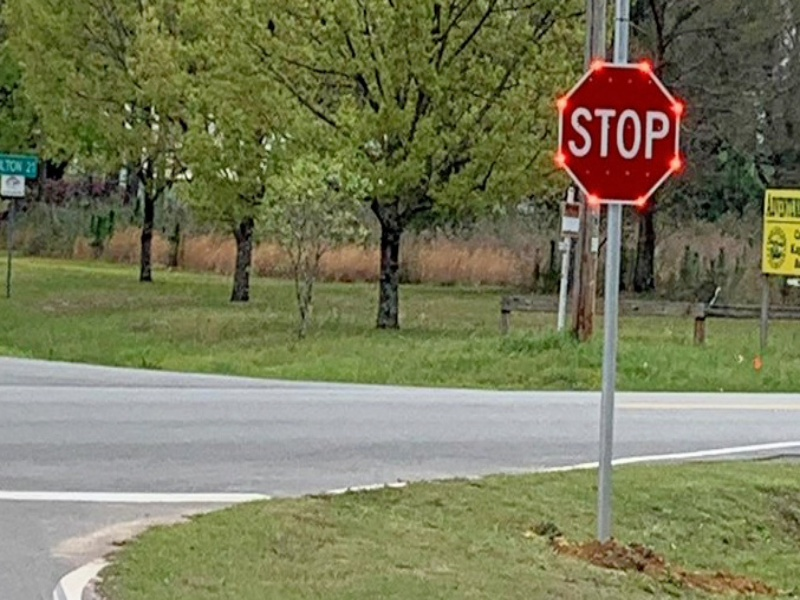stop sign: (556, 60, 682, 209)
